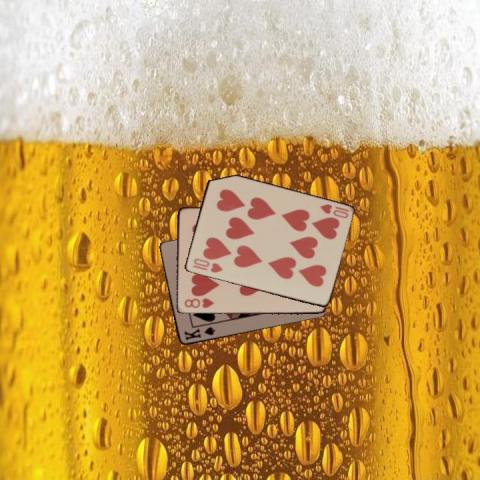10h: (189, 255, 224, 274), (317, 201, 350, 220)
8h: (182, 296, 215, 310)
Ks: (181, 324, 216, 342)
